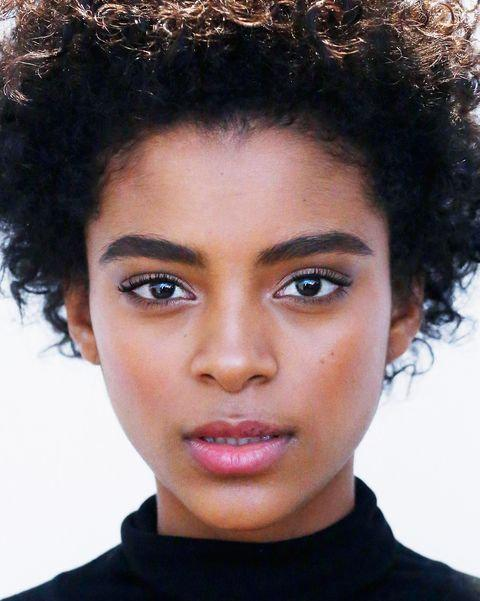Sober: (88, 154, 377, 506)
